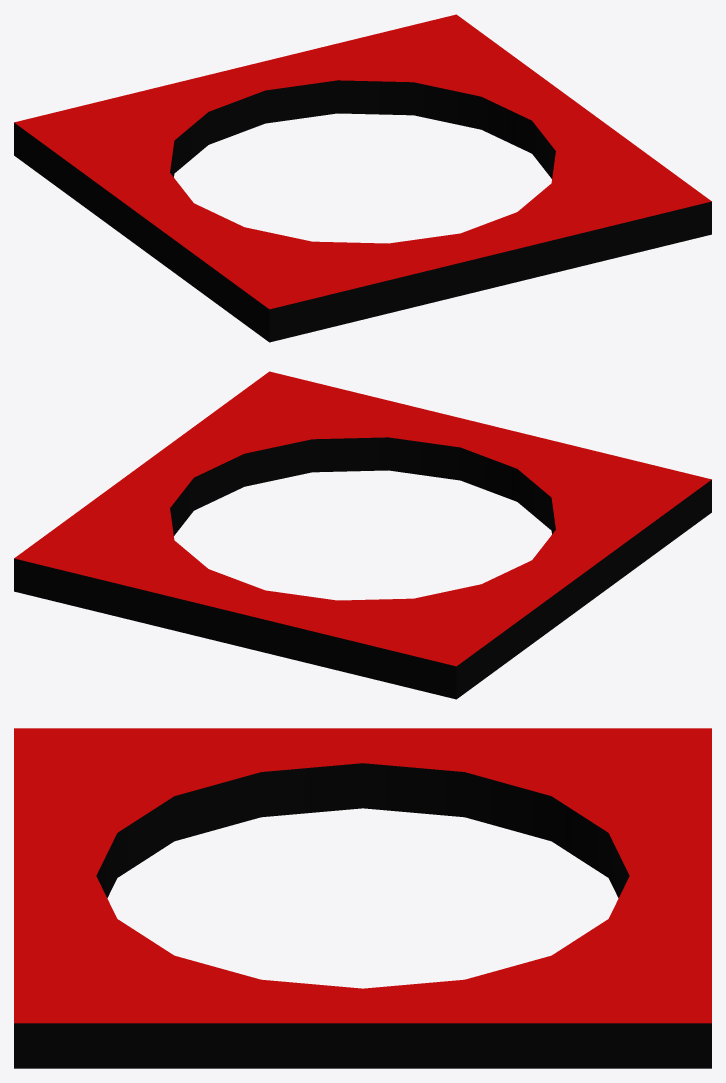
File: MS_Elevator_Hole.fbx
The picture shows the model from 3 angles, top to bottom: view 1: azimuth 30°, elevation 25°; view 2: azimuth 150°, elevation 25°; view 3: azimuth 270°, elevation 25°; orthographic projection. The views are drawn at different scales.
Parts seen in each view (by area): view 1: MS_Elevator_Hole; view 2: MS_Elevator_Hole; view 3: MS_Elevator_Hole.
Part boxes in pixels (bbox=[...]): MS_Elevator_Hole: bbox=[14, 14, 711, 342]; MS_Elevator_Hole: bbox=[14, 371, 711, 699]; MS_Elevator_Hole: bbox=[14, 728, 711, 1068].
Size of the model in its own units: 700 by 50 by 700.
